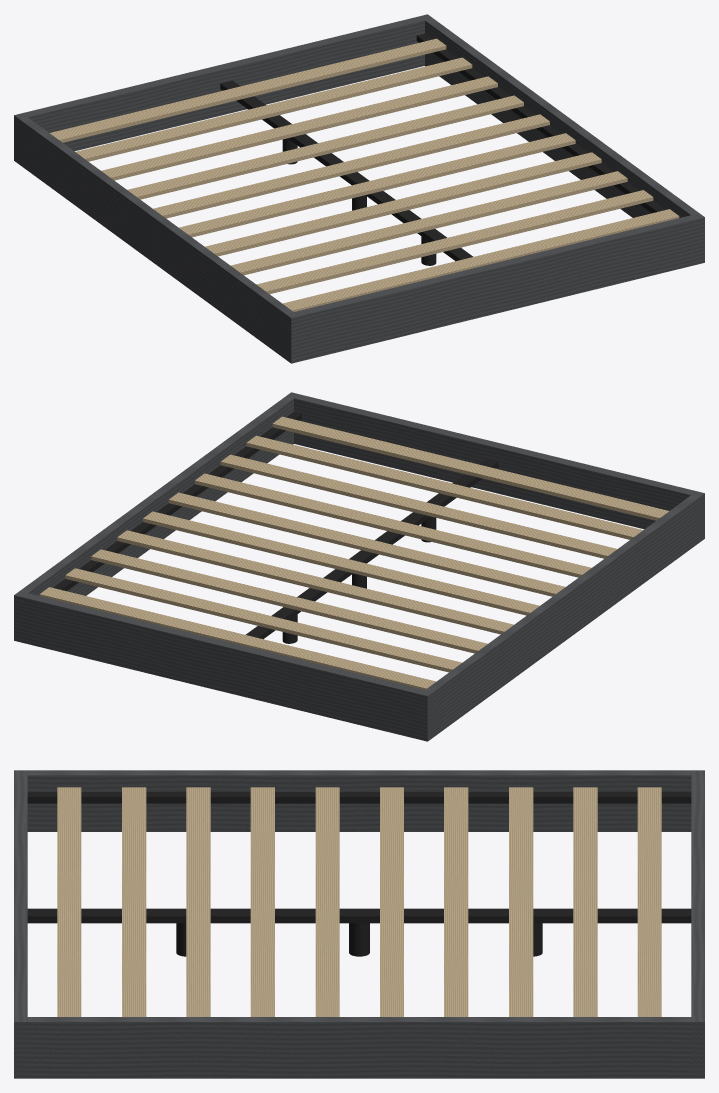
The picture shows the model from 3 angles, top to bottom: view 1: azimuth 30°, elevation 25°; view 2: azimuth 150°, elevation 25°; view 3: azimuth 270°, elevation 25°; orthographic projection. The views are drawn at different scales.
Parts seen in each view (by area): view 1: 1 front_fluted_panel, 2 back_fluted_panel, 3 left_fluted_panel, 4 right_fluted_panel, 11 wood_slat_1, 12 wood_slat_2, 14 wood_slat_4, 17 wood_slat_7, 19 wood_slat_9, 13 wood_slat_3, 18 wood_slat_8, 15 wood_slat_5 (+4 smaller); view 2: 2 back_fluted_panel, 1 front_fluted_panel, 3 left_fluted_panel, 4 right_fluted_panel, 18 wood_slat_8, 12 wood_slat_2, 20 wood_slat_10, 13 wood_slat_3, 14 wood_slat_4, 15 wood_slat_5, 17 wood_slat_7, 16 wood_slat_6 (+4 smaller); view 3: 4 right_fluted_panel, 3 left_fluted_panel, 5 center_metal_beam, 11 wood_slat_1, 12 wood_slat_2, 13 wood_slat_3, 14 wood_slat_4, 16 wood_slat_6, 17 wood_slat_7, 18 wood_slat_8, 19 wood_slat_9, 20 wood_slat_10 (+5 smaller).
Part boxes in pixels (x1,y1,x2,y2): 1 front_fluted_panel: (285,213,704,363); 2 back_fluted_panel: (14,14,432,164); 3 left_fluted_panel: (19,117,293,359); 4 right_fluted_panel: (425,18,698,217); 11 wood_slat_1: (50,38,446,142); 12 wood_slat_2: (76,57,472,161); 14 wood_slat_4: (127,95,523,199); 17 wood_slat_7: (205,152,601,256); 19 wood_slat_9: (256,190,653,294); 13 wood_slat_3: (101,76,497,180); 18 wood_slat_8: (231,171,627,275); 15 wood_slat_5: (153,114,549,218); 2 back_fluted_panel: (14,591,433,741); 1 front_fluted_panel: (286,392,704,542); 3 left_fluted_panel: (425,495,699,737); 4 right_fluted_panel: (20,396,293,595); 18 wood_slat_8: (220,454,617,558); 12 wood_slat_2: (65,568,461,672); 20 wood_slat_10: (272,416,668,520); 13 wood_slat_3: (91,549,487,653); 14 wood_slat_4: (117,530,513,634); 15 wood_slat_5: (143,511,539,615); 17 wood_slat_7: (195,473,591,577); 16 wood_slat_6: (168,492,565,596); 4 right_fluted_panel: (27,1017,691,1078); 3 left_fluted_panel: (27,770,691,831); 5 center_metal_beam: (27,908,691,923); 11 wood_slat_1: (637,787,661,1016); 12 wood_slat_2: (573,787,597,1016); 13 wood_slat_3: (509,787,533,1016); 14 wood_slat_4: (444,787,468,1016); 16 wood_slat_6: (315,787,339,1016); 17 wood_slat_7: (250,787,274,1016); 18 wood_slat_8: (186,787,210,1016); 19 wood_slat_9: (122,787,146,1016); 20 wood_slat_10: (57,787,81,1016).
Bounding box in the file's own units: 9.51 × 1 × 11.04.
Materials: 3 (2 with a texture image).
